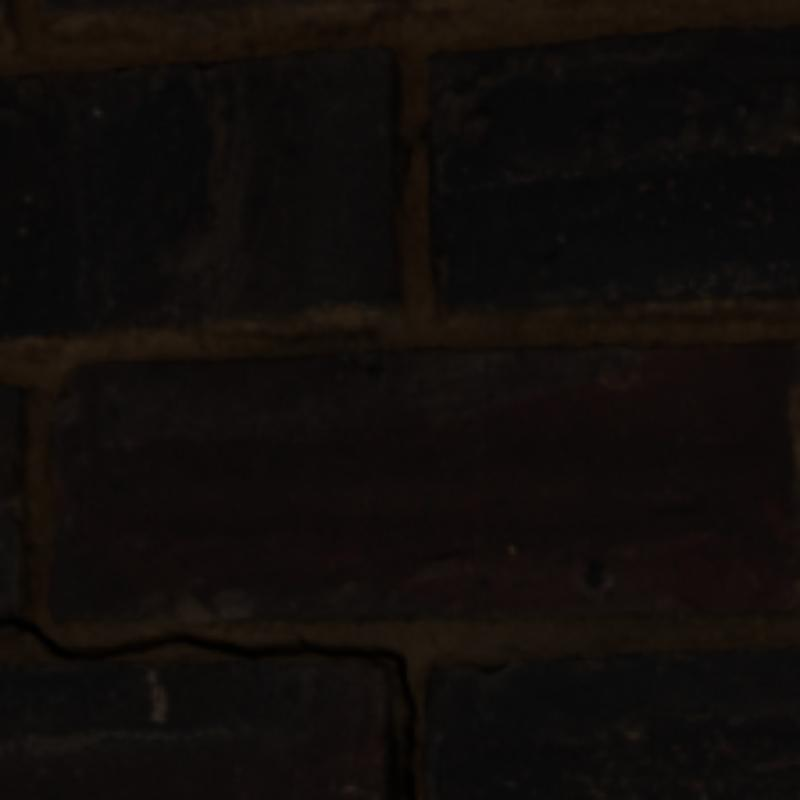pothole: (0, 611, 414, 796)
